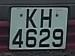2: (38, 29, 52, 49)
4: (11, 28, 25, 50)
6: (24, 29, 39, 49)
9: (51, 28, 65, 48)
H: (40, 7, 53, 30)
K: (24, 7, 38, 31)
